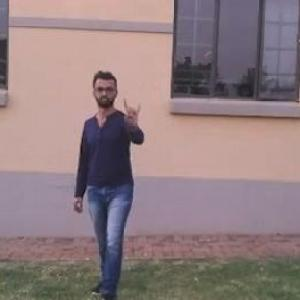takeoff-hand: (119, 93, 147, 131)
